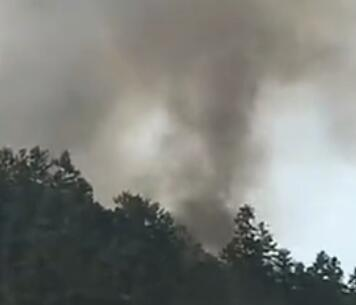yanwu: (1, 0, 290, 257), (242, 0, 356, 159)
